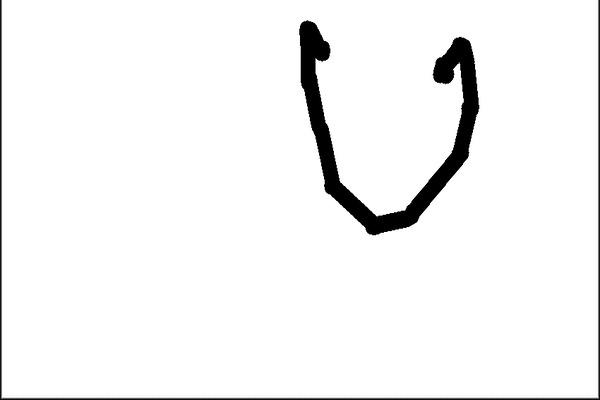U: (287, 12, 482, 236)
